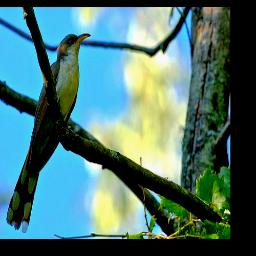Cuckoo: (7, 33, 91, 232)
